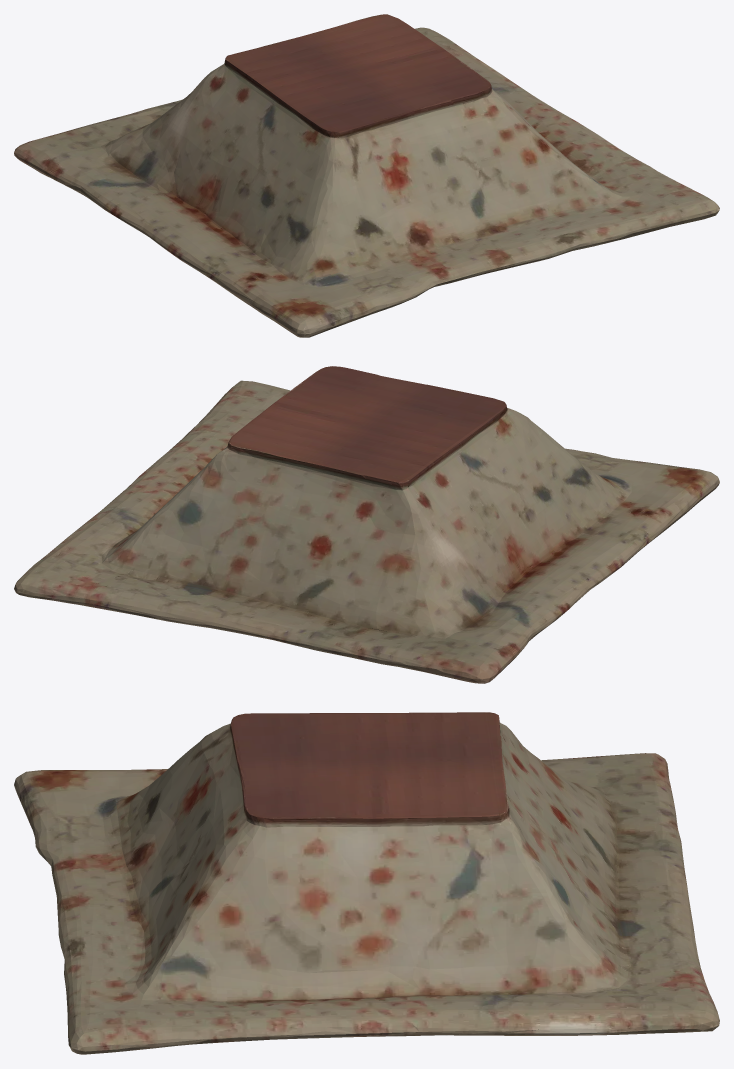
3 renders of one model, top to bottom at view 1: azimuth 30°, elevation 25°; view 2: azimuth 150°, elevation 25°; view 3: azimuth 270°, elevation 25°, orthographic. The views are drawn at different scales.
Visible parts, largest first — view 1: world; view 2: world; view 3: world.
Part boxes in pixels (box(x1,y1,x2,y2)): world: box(14, 14, 719, 337); world: box(14, 366, 719, 683); world: box(14, 712, 719, 1054).
Size of the model in its own units: 0.6053 by 0.1419 by 0.6208.
Materials: 1 (1 with a texture image).
